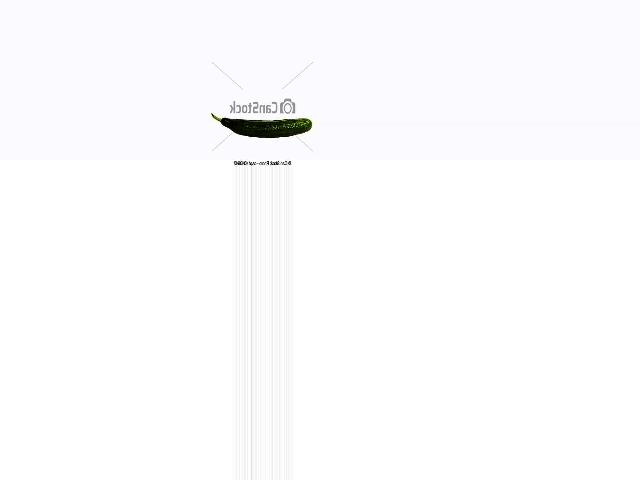cucumber: (210, 114, 311, 138)
